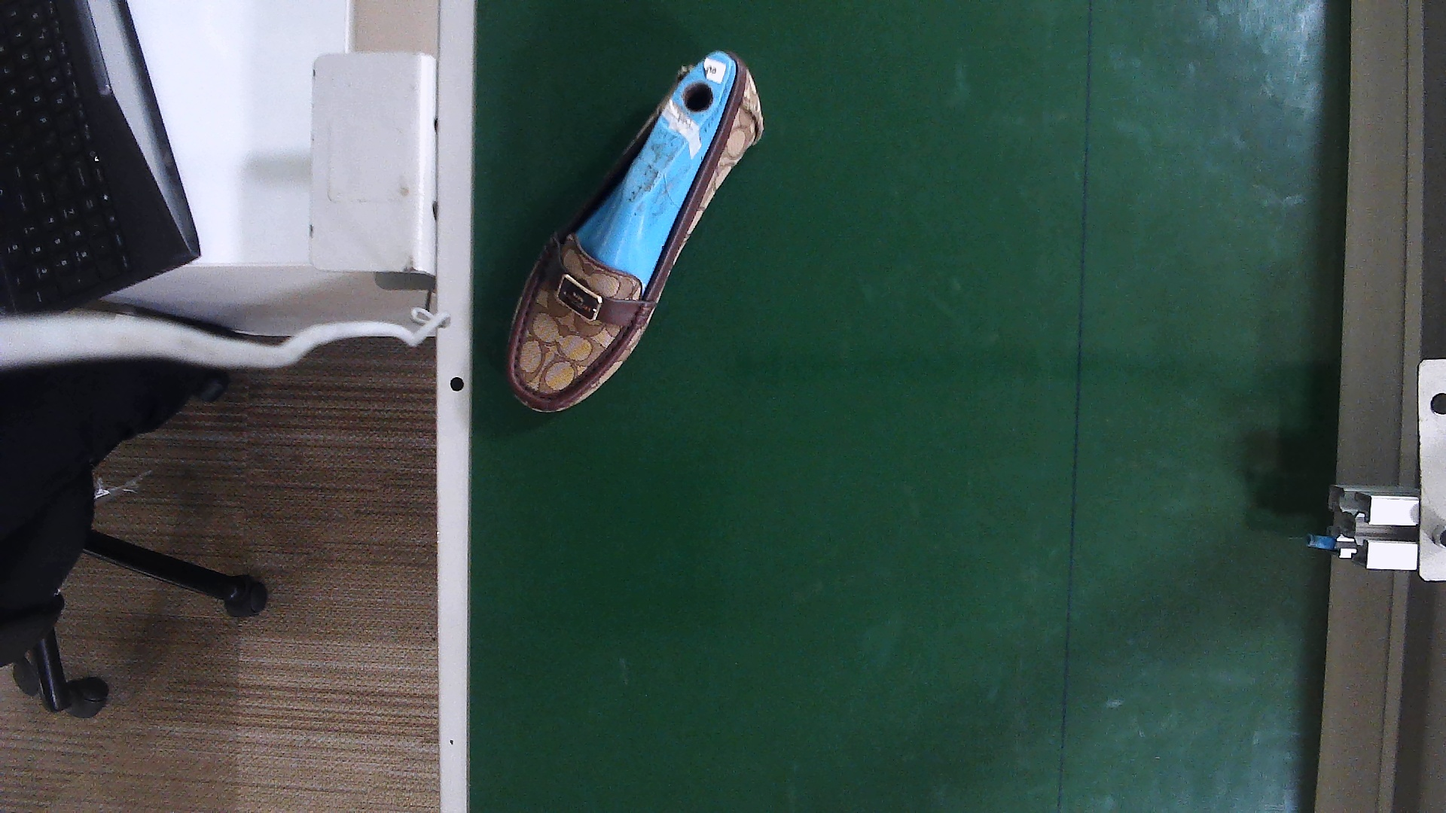shoe: (508, 54, 761, 413)
